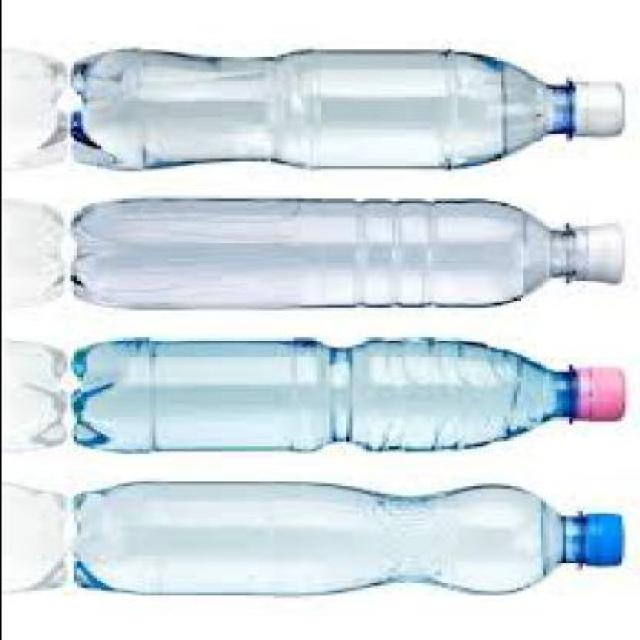PLASTIC: (72, 47, 626, 167), (76, 334, 630, 452), (76, 476, 627, 593), (72, 193, 623, 304), (575, 219, 630, 283), (578, 365, 633, 420), (571, 77, 624, 134), (584, 511, 627, 566)
